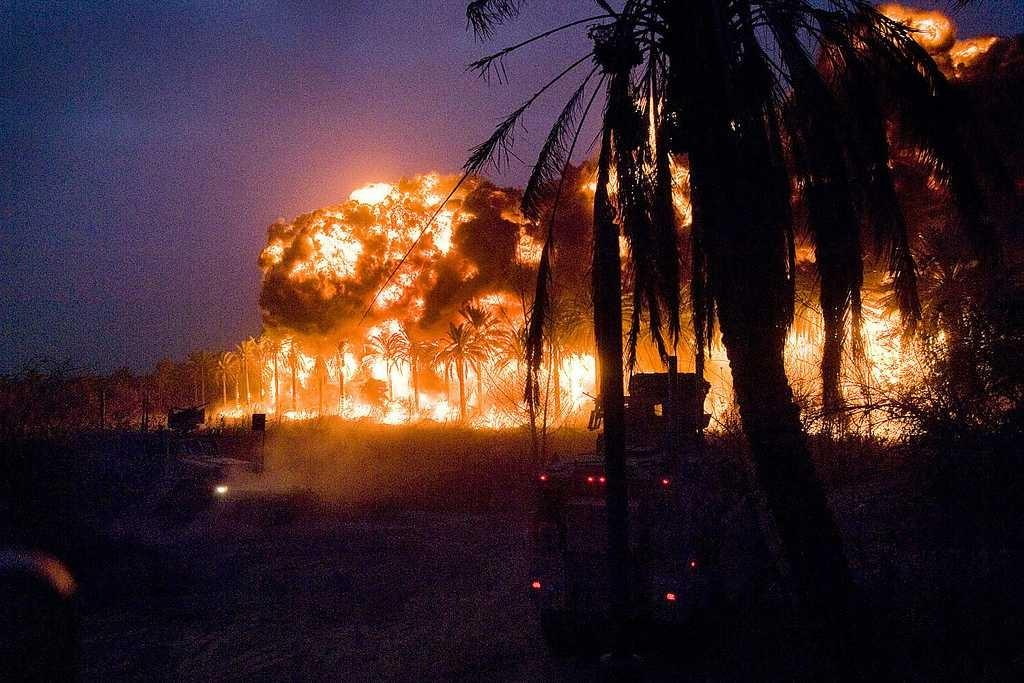fire: (858, 318, 907, 387), (307, 230, 358, 272), (563, 355, 603, 408), (368, 360, 403, 398), (373, 360, 407, 390)
